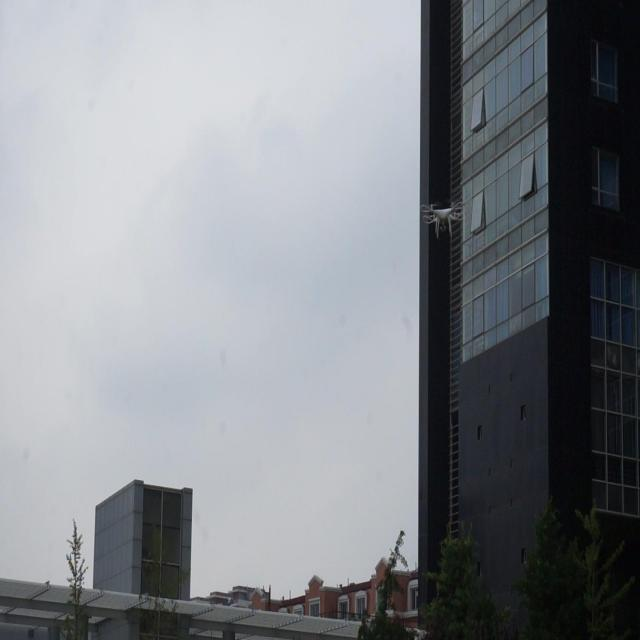UAV: (420, 200, 466, 239)
